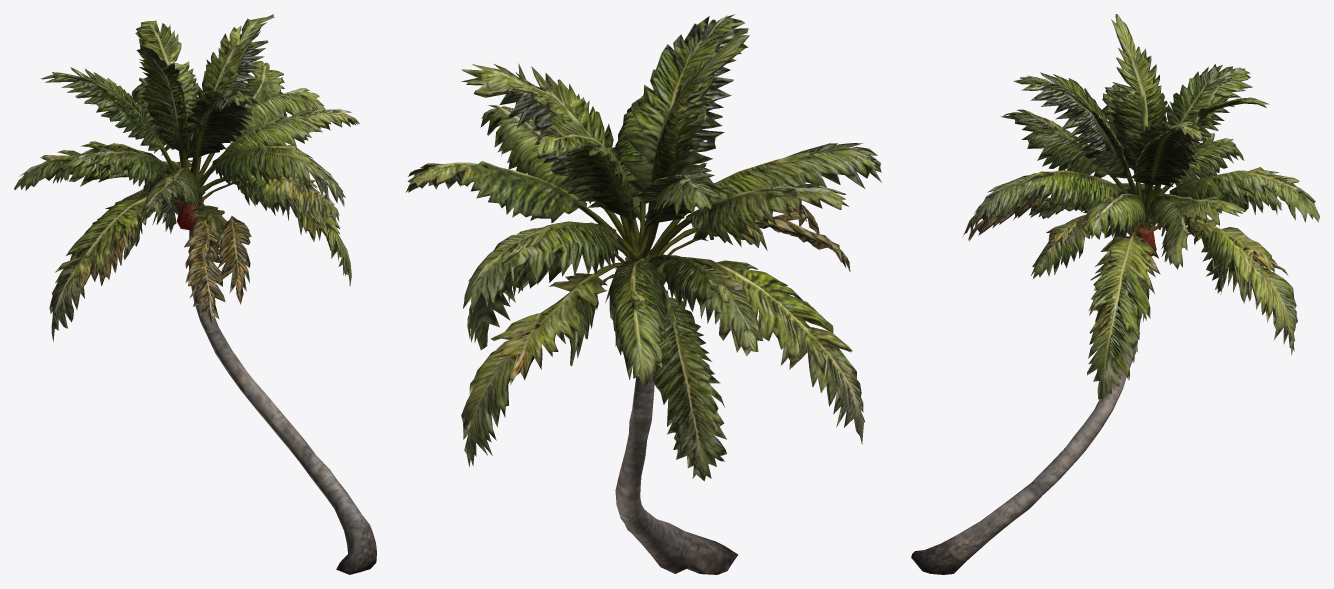
File: palm_tree_b.fbx
3 renders of one model, left to right at view 1: azimuth 30°, elevation 25°; view 2: azimuth 150°, elevation 25°; view 3: azimuth 270°, elevation 25°, orthographic. The views are drawn at different scales.
Parts seen in each view (by area): view 1: palm_tree_b; view 2: palm_tree_b; view 3: palm_tree_b.
Boxes of the visible parts, x1,y1,x2,y2 form: palm_tree_b: (14, 14, 376, 574); palm_tree_b: (406, 14, 881, 574); palm_tree_b: (911, 14, 1319, 574).
Bounding box in the file's own units: 5.24 × 8 × 6.02.
1 material, 1 textured.
